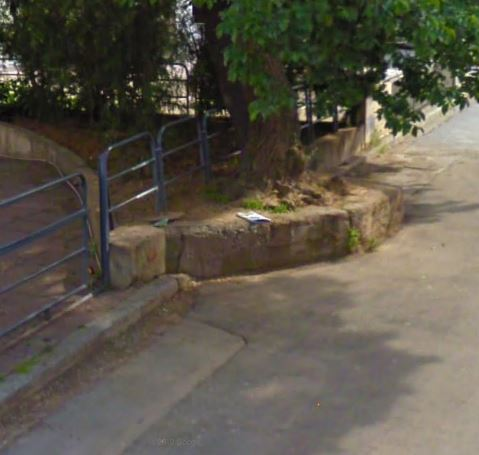trash: (230, 206, 273, 228)
